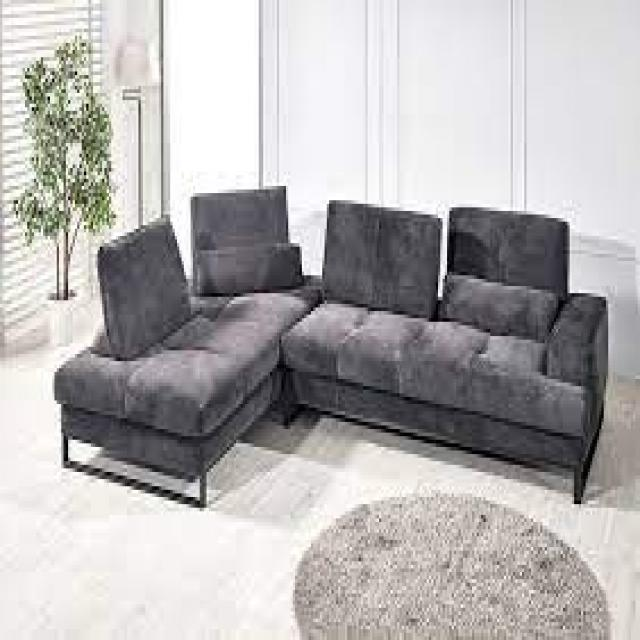Sofa: (16, 182, 640, 530)
